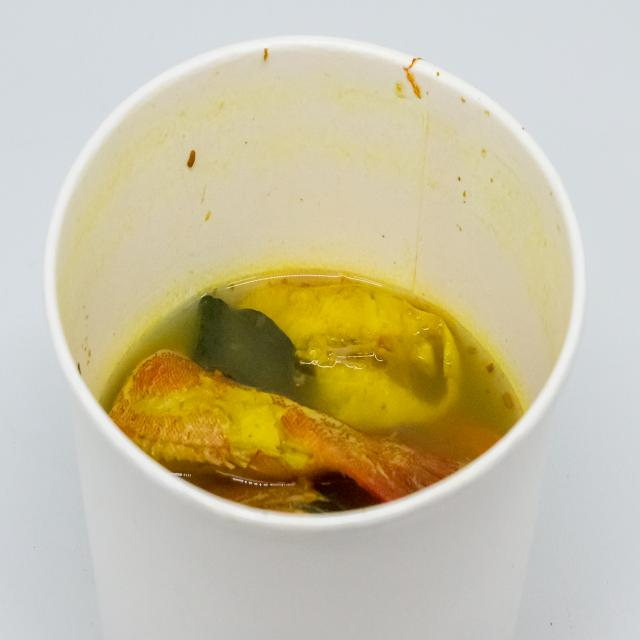Gulai-Ikan-Mas: (108, 187, 521, 503)
